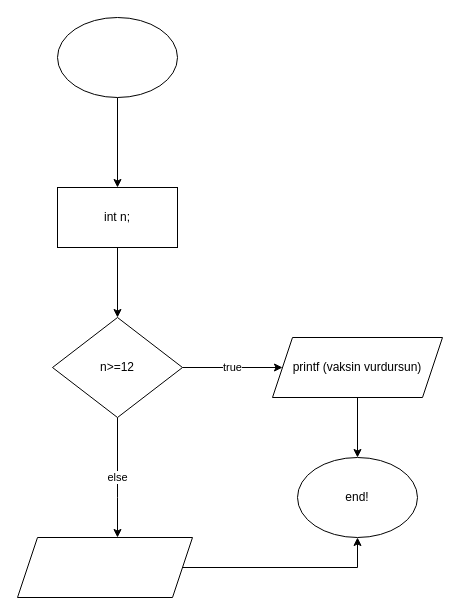
The diagram is 460 pixels wide and 615 high, and some of its shapes have lost their labels. Each missing label, with the box of its shape:
printf (vaksin olmaz): (16, 536, 192, 598)
start!: (56, 16, 178, 98)
